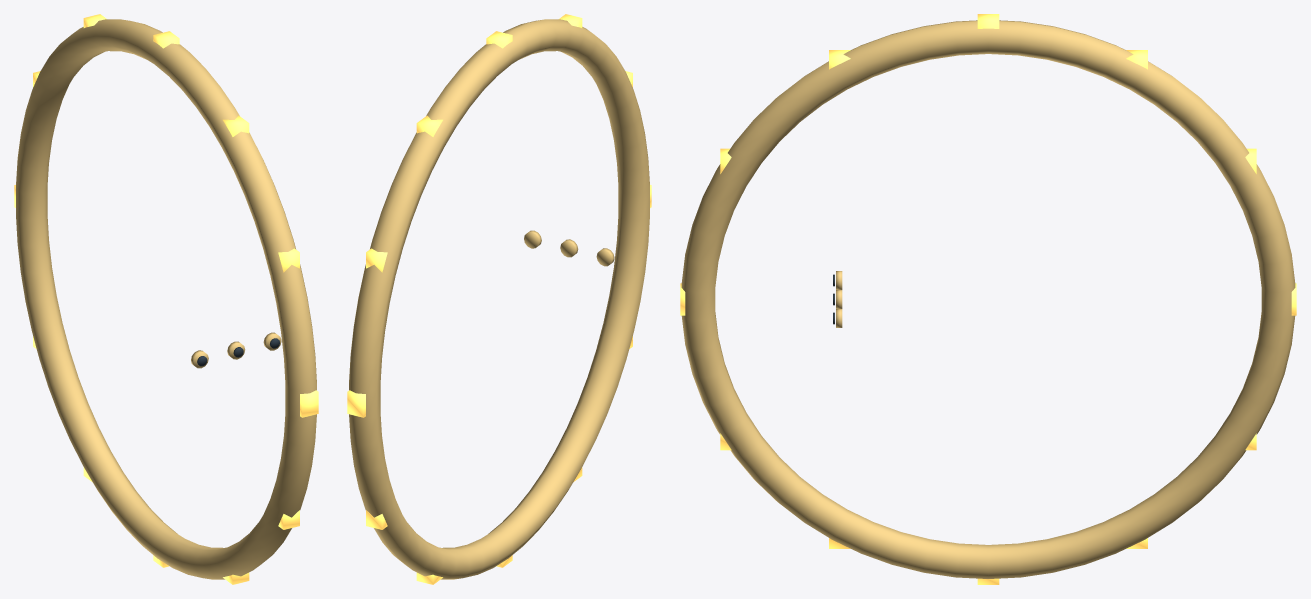
File: 13_L90_OrbitalLightingArc.glb
3 views of the same model, side by side, from view 1: azimuth 30°, elevation 25°; view 2: azimuth 150°, elevation 25°; view 3: azimuth 270°, elevation 25° (orthographic). The views are drawn at different scales.
Parts seen in each view (by area): view 1: L90_OrbitalLightingArc_Part_0000, L90_OrbitalLightingArc; view 2: L90_OrbitalLightingArc_Part_0000, L90_OrbitalLightingArc; view 3: L90_OrbitalLightingArc_Part_0000, L90_OrbitalLightingArc.
Part boxes in pixels (x1,y1,x2,y2): L90_OrbitalLightingArc_Part_0000: (16,19,316,579); L90_OrbitalLightingArc: (14,14,318,584); L90_OrbitalLightingArc_Part_0000: (349,19,649,579); L90_OrbitalLightingArc: (347,14,651,584); L90_OrbitalLightingArc_Part_0000: (681,20,1295,578); L90_OrbitalLightingArc: (680,14,1296,584).
Size of the model in its own units: 0.75 by 4.28 by 4.25.
